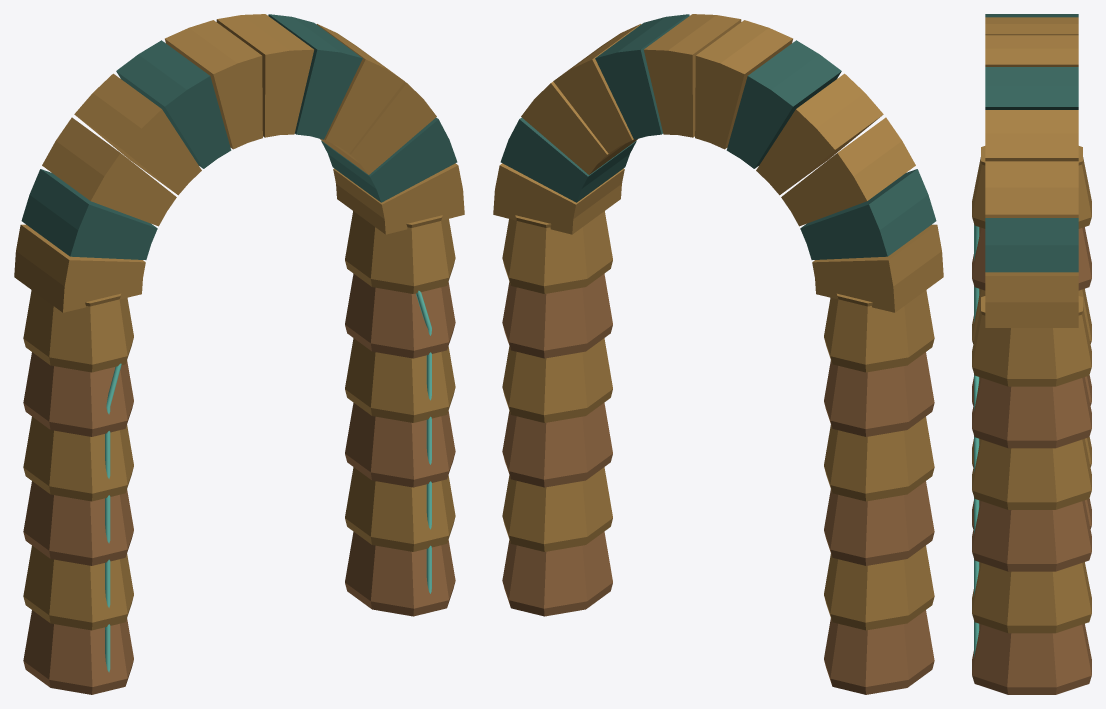
Rendered from ruin_arch.glb.
3 renders of one model, left to right at view 1: azimuth 30°, elevation 25°; view 2: azimuth 150°, elevation 25°; view 3: azimuth 270°, elevation 25°, orthographic. The views are drawn at different scales.
Parts seen in each view (by area): view 1: ruin_arch; view 2: ruin_arch; view 3: ruin_arch.
Part boxes in pixels (x1,y1,x2,y2): ruin_arch: [14, 14, 464, 694]; ruin_arch: [493, 14, 943, 694]; ruin_arch: [972, 14, 1091, 694].
Size of the model in its own units: 30.34 by 42.25 by 8.1.
